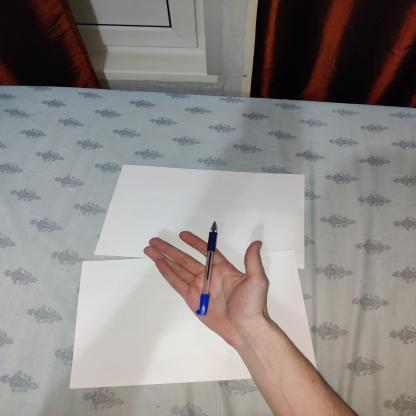pen: (174, 221, 228, 330)
